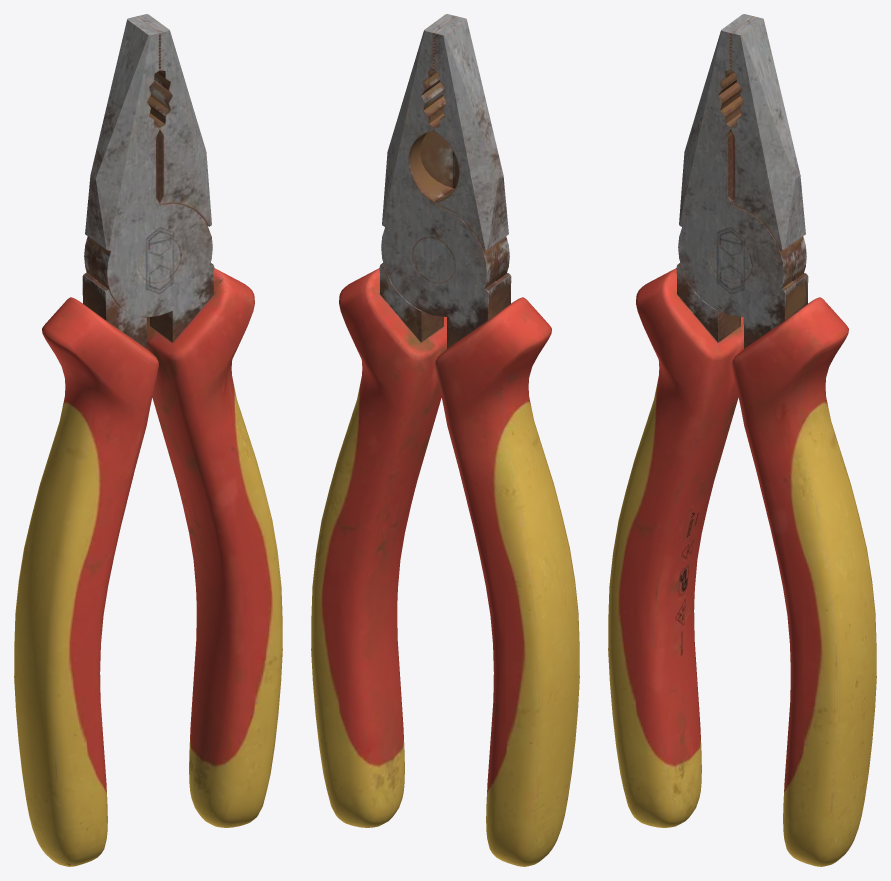
Rendered from pliers.glb.
3 renders of one model, left to right at view 1: azimuth 30°, elevation 25°; view 2: azimuth 150°, elevation 25°; view 3: azimuth 330°, elevation 25°, orthographic.
Parts seen in each view (by area): view 1: pliers_b; view 2: pliers_b; view 3: pliers_b.
Boxes of the visible parts, x1,y1,x2,y2 form: pliers_b: (14,14,282,866); pliers_b: (311,14,579,866); pliers_b: (608,14,876,866).
Size of the model in its own units: 0.0553 by 0.1798 by 0.0179.
1 material, 1 textured.
